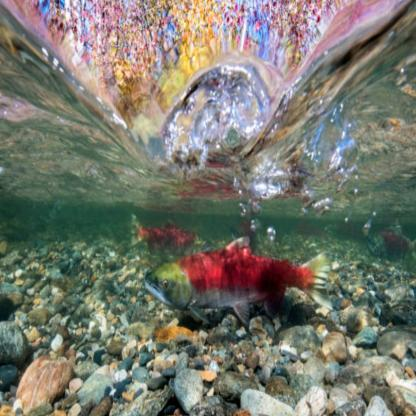sockeye: (140, 240, 327, 323), (133, 205, 200, 257)
